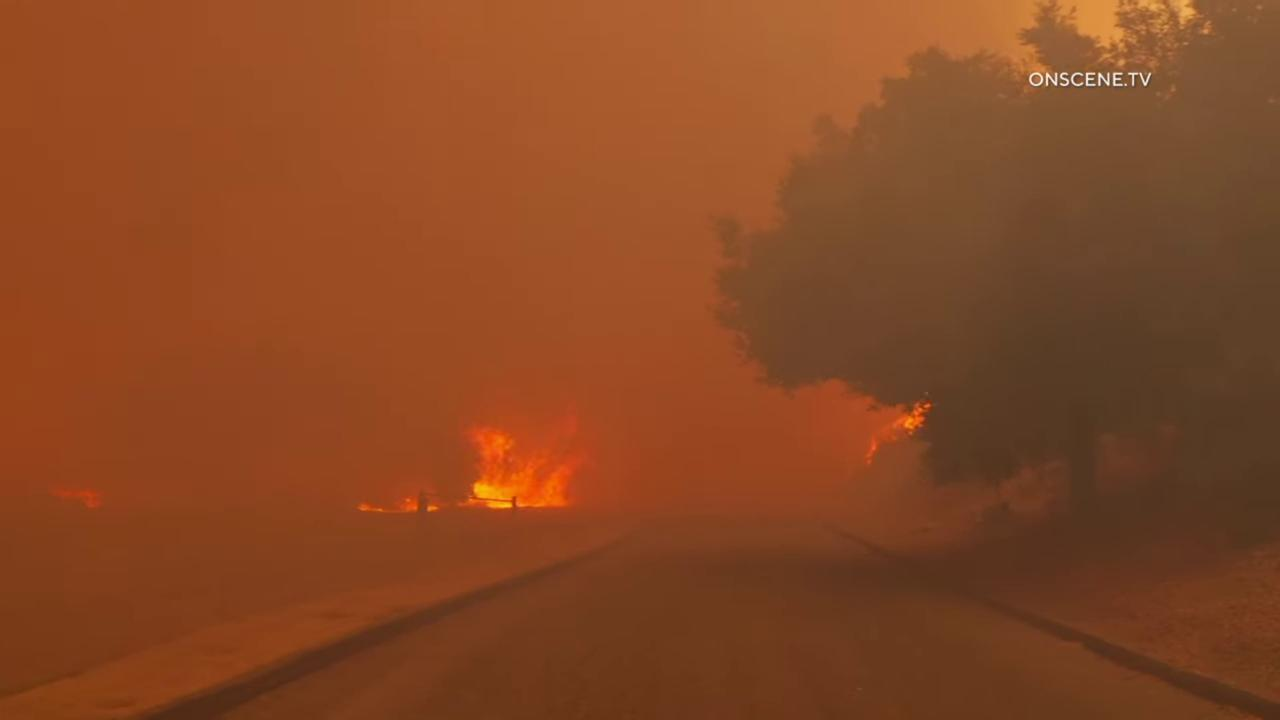fire: (458, 409, 607, 514), (857, 395, 933, 468), (354, 491, 442, 514), (43, 480, 107, 510)
smoke: (0, 0, 1280, 720)
